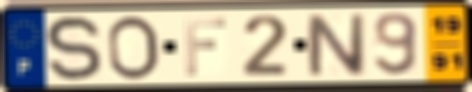2: (240, 13, 293, 79)
9: (371, 11, 419, 78)
F: (181, 16, 230, 77)
N: (302, 12, 369, 79)
O: (105, 14, 163, 82)
S: (43, 13, 106, 84)
